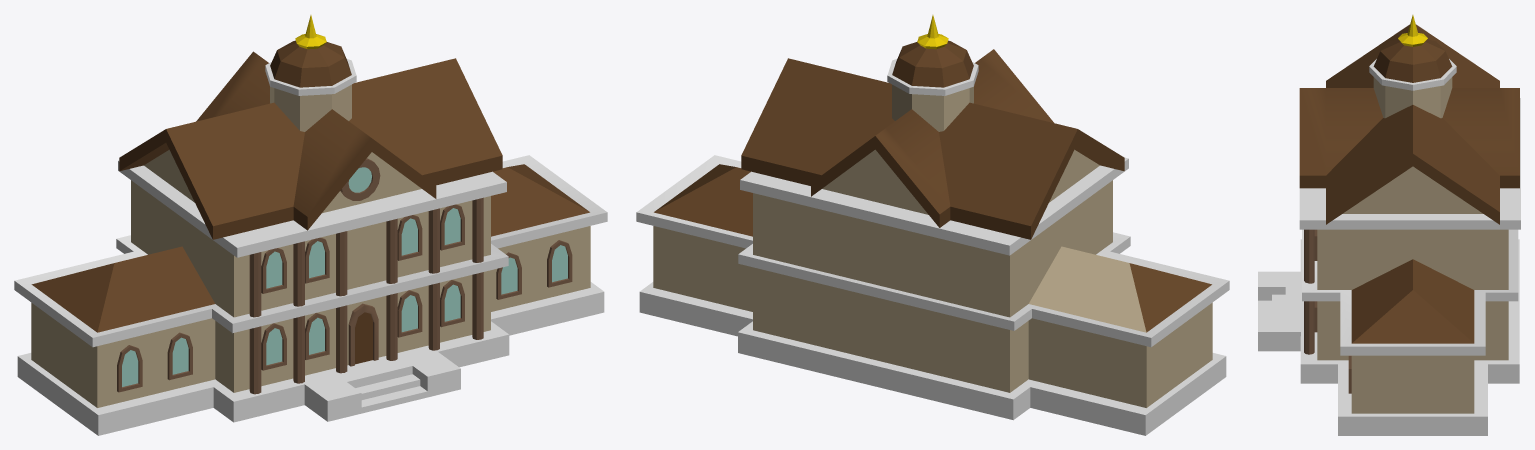
File: 3D Town Hall 1.fbx
3 views of the same model, side by side, from view 1: azimuth 30°, elevation 25°; view 2: azimuth 150°, elevation 25°; view 3: azimuth 270°, elevation 25° (orthographic). The views are drawn at different scales.
Visible parts, largest first — view 1: pCube1, pCylinder1, pCylinder3, pCylinder16, pCylinder17, pCylinder18, pCylinder19, pCylinder15, pCylinder20, pCylinder2, pCylinder5, pCylinder4 (+10 smaller); view 2: pCube1, pCylinder1; view 3: pCube1, pCylinder1, pCylinder20.
Part boxes in pixels (x1=…): pCube1: x1=14, y1=51, x2=607, y2=435; pCylinder1: x1=265, y1=15, x2=356, y2=131; pCylinder3: x1=348, y1=303, x2=378, y2=366; pCylinder16: x1=249, y1=252, x2=261, y2=394; pCylinder17: x1=336, y1=231, x2=347, y2=373; pCylinder18: x1=386, y1=218, x2=397, y2=360; pCylinder19: x1=428, y1=208, x2=439, y2=350; pCylinder15: x1=293, y1=241, x2=304, y2=383; pCylinder20: x1=472, y1=197, x2=483, y2=339; pCylinder2: x1=340, y1=158, x2=380, y2=200; pCylinder5: x1=167, y1=332, x2=192, y2=380; pCylinder4: x1=117, y1=345, x2=142, y2=392; pCube1: x1=636, y1=49, x2=1229, y2=435; pCylinder1: x1=887, y1=15, x2=978, y2=131; pCube1: x1=1258, y1=24, x2=1520, y2=435; pCylinder1: x1=1369, y1=15, x2=1456, y2=118; pCylinder20: x1=1304, y1=229, x2=1314, y2=354.
Size of the model in its own units: 31.54 by 19.36 by 15.
